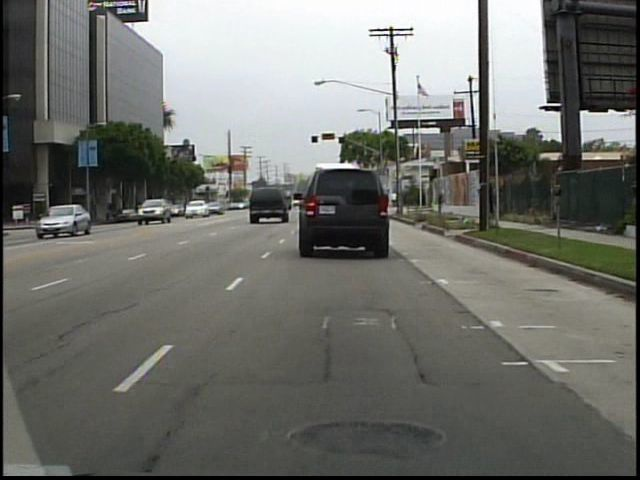person: (391, 188, 399, 207)
